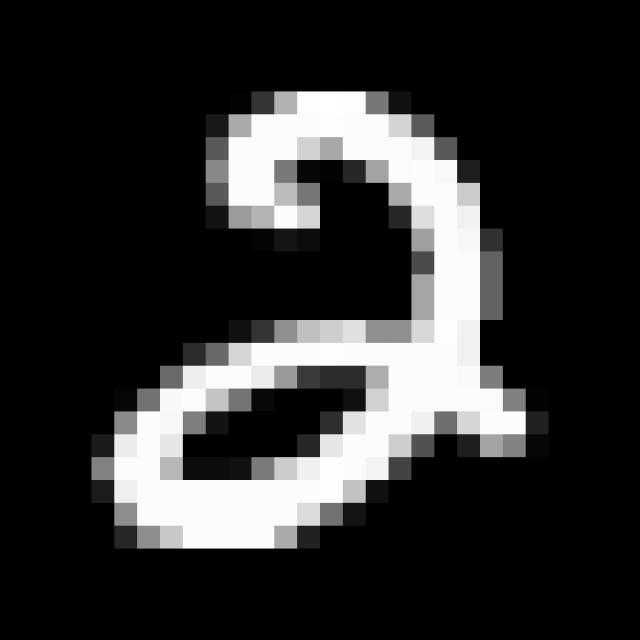two -2-: (89, 64, 551, 567)
